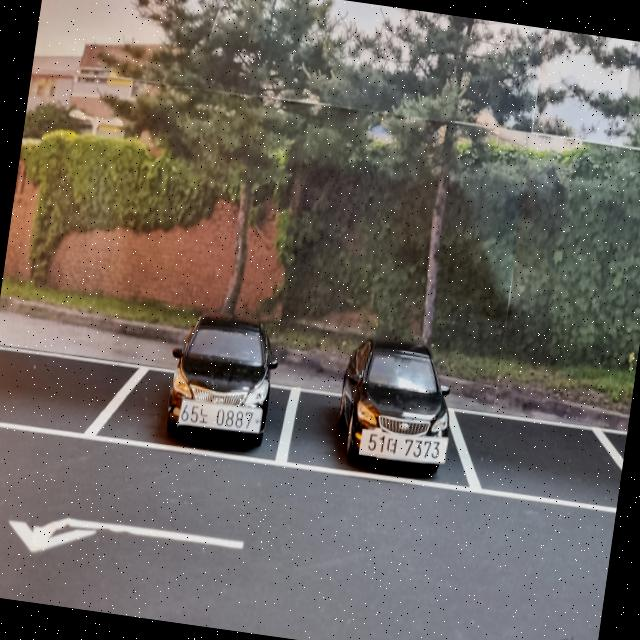empty: (450, 404, 628, 521), (0, 339, 145, 449)
occupied: (148, 294, 301, 456), (324, 322, 467, 480)
